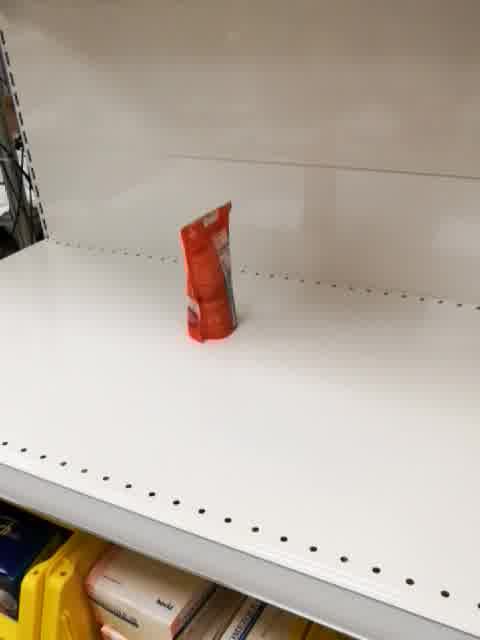whitechia: (179, 197, 241, 344)
